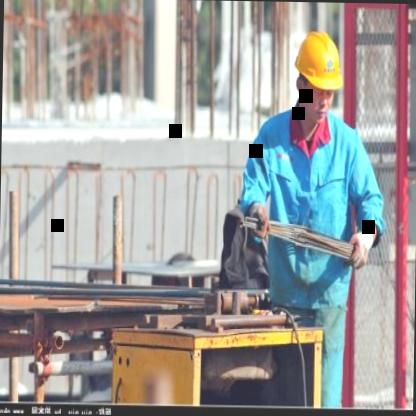helmet: (287, 22, 346, 130)
